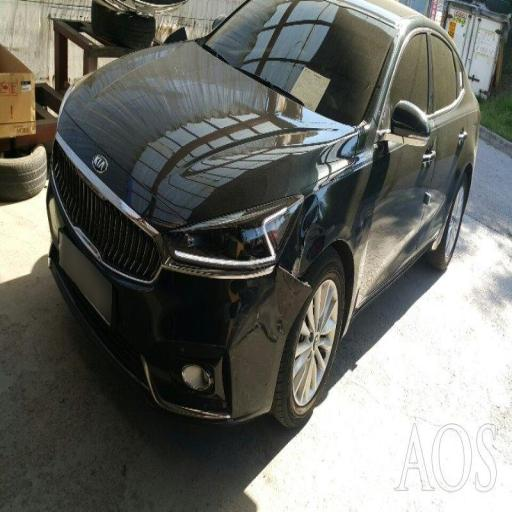broken: (222, 208, 336, 338)
